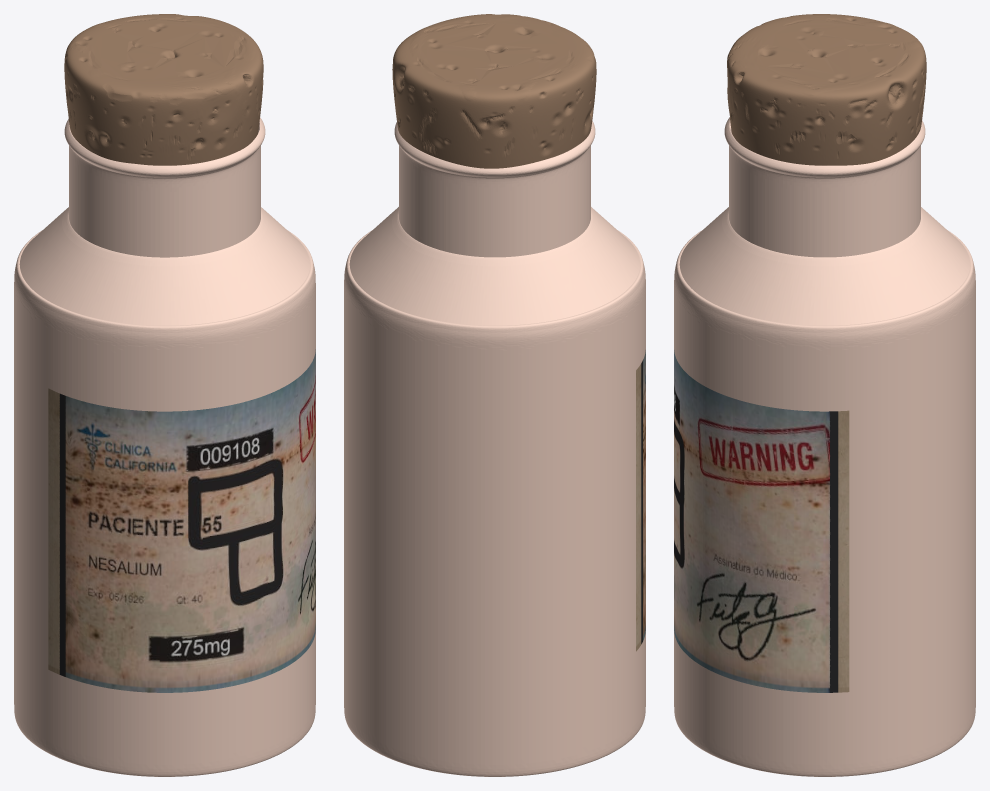
3 renders of one model, left to right at view 1: azimuth 30°, elevation 25°; view 2: azimuth 150°, elevation 25°; view 3: azimuth 270°, elevation 25°, orthographic.
Parts seen in each view (by area): view 1: bottle.011, Cork.011; view 2: bottle.011, Cork.011; view 3: bottle.011, Cork.011.
Boxes of the visible parts, x1,y1,x2,y2 form: bottle.011: [14, 117, 315, 776]; Cork.011: [64, 14, 263, 165]; bottle.011: [344, 121, 645, 776]; Cork.011: [392, 14, 596, 168]; bottle.011: [674, 117, 975, 776]; Cork.011: [727, 14, 926, 165].
Bounding box in the file's own units: 0.0596 × 0.1445 × 0.0596.
5 materials, 1 textured.
